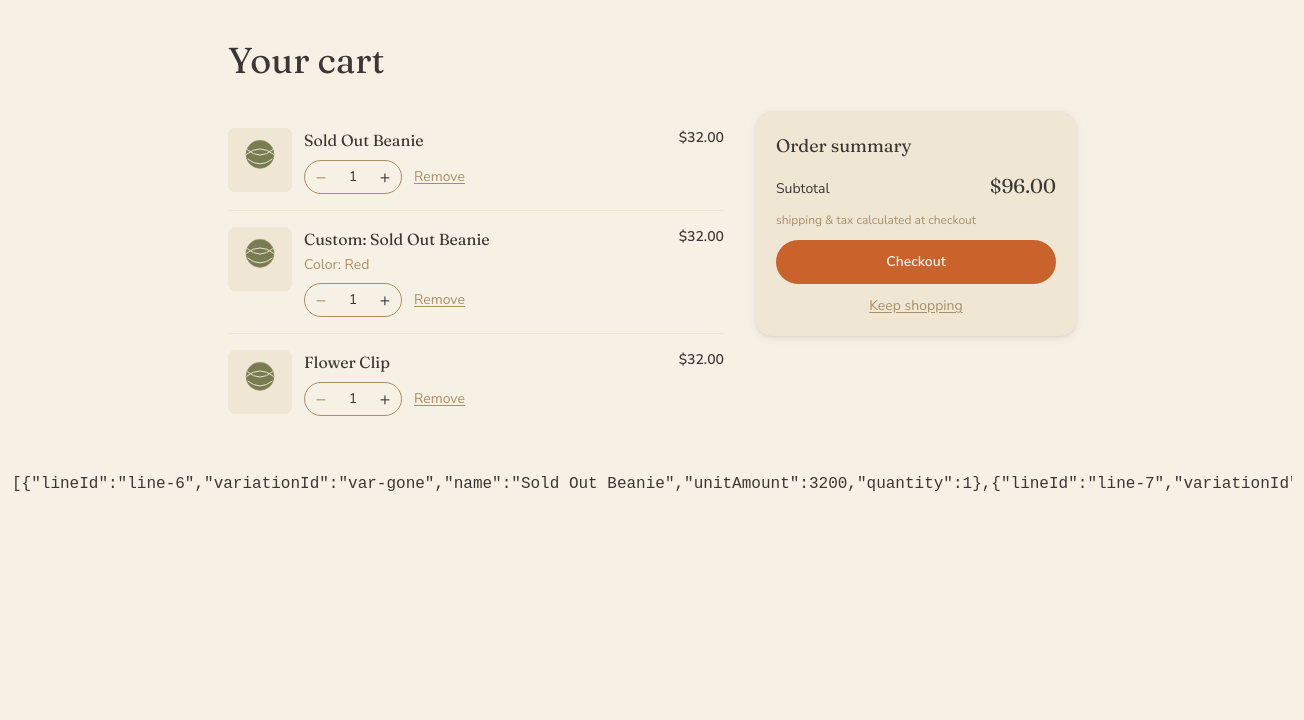
it: /cart › a SOLD_OUT checkout marks every affected row on the page
The width and height of the screenshot is (1304, 720).
Click the button "Checkout". click: (916, 262)
box: [776, 240, 1056, 284]
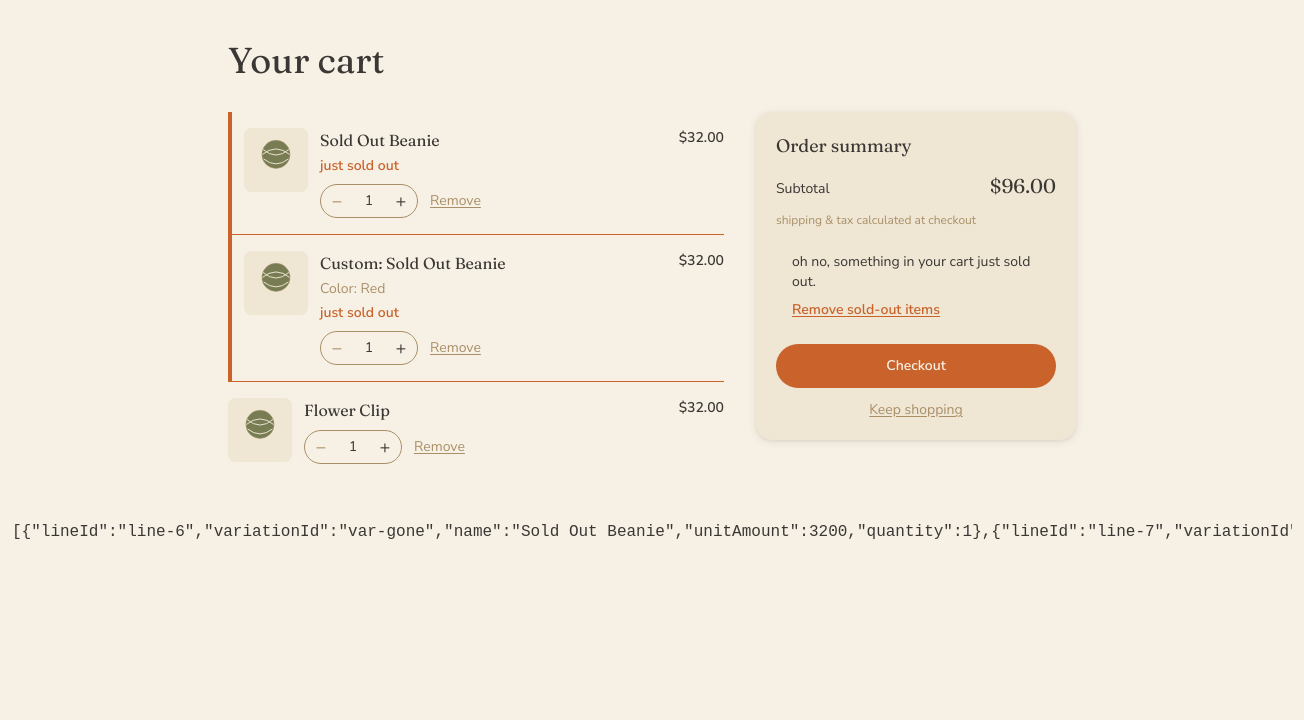
Check: the number of elements with test id "line-sold-out" is 2, box [320, 156, 399, 175]; [320, 303, 399, 322]
Check: the 1st text with test id "line-sold-out" shows "sold out", box [320, 156, 399, 175]
Check: the text with test id "line-sold-out" below "Color: Red" shows "sold out", box [320, 303, 399, 322]
